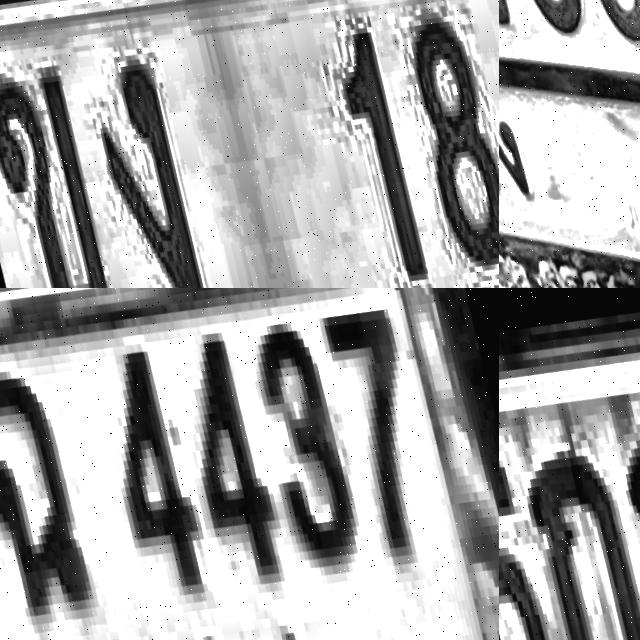license-plate: (0, 288, 499, 640), (0, 0, 499, 288), (499, 288, 640, 640), (499, 0, 640, 288)
